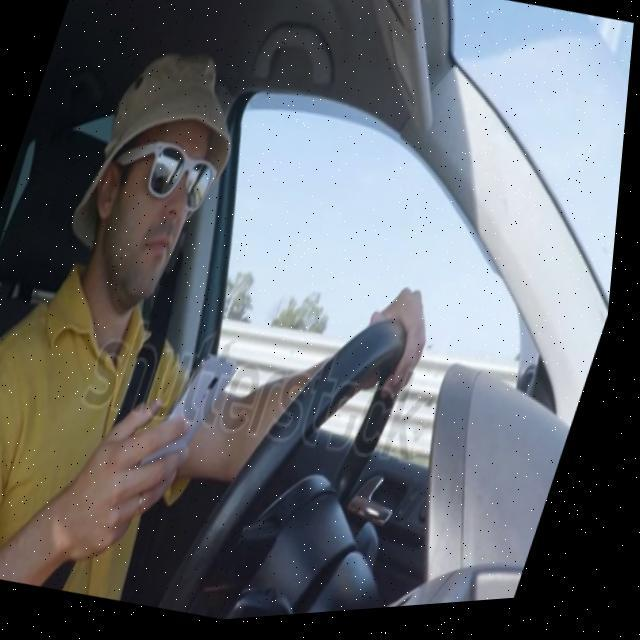PhoneCall: (136, 344, 248, 506)
